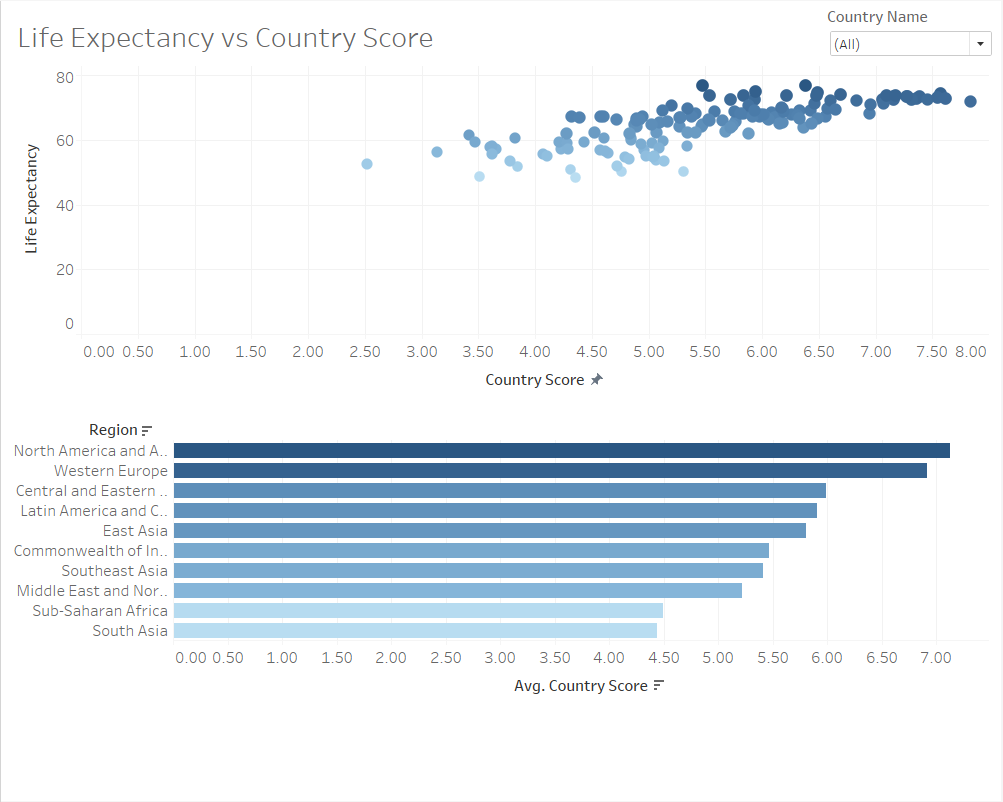

The page's visual inventory and layout, read from the dashboard file:
{"tool":"tableau","page":{"name":"Life","canvas":[1000,800],"ordinal":4},"visuals":[{"type":"filter","title":"Life Expectancy","param":"[federated.168gi1h10k7xlh16hg38707kskvv].[none:Country Name:nk]","box":[826,5,168,61]},{"type":"worksheet","title":"Life Expectancy","mark":"Automatic","rows":["Life Expectancy"],"cols":["Country Score"],"box":[8,8,984,392]},{"type":"worksheet","title":"Regions","mark":"Automatic","rows":["Region"],"cols":["Country Score"],"box":[8,400,984,392]}]}

Visuals, with their boxes in screenshot pixels (x1, y1, x2, y2), scaled from the page's 1000x800 canvas onto the 1003x802 screenshot:
"Life Expectancy" filter: (828,5,997,66)
"Life Expectancy" worksheet: (8,8,995,401)
"Regions" worksheet: (8,401,995,794)
